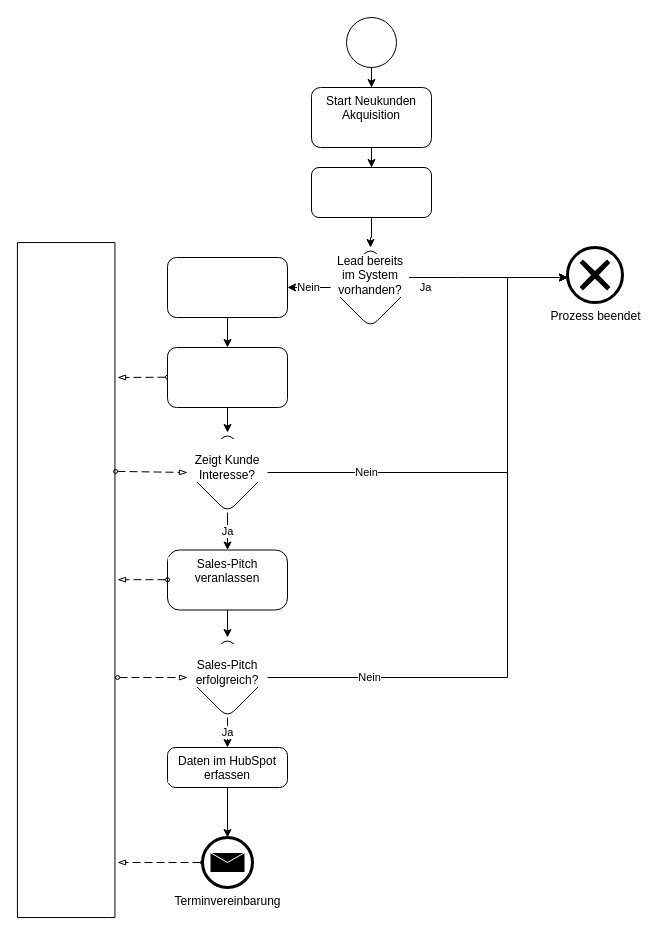
The diagram is 658 pixels wide and 936 high, and some of its shapes have lost their labels. Here are the shapes that lost their labels. From the top down, the box of each, then its label:
(310, 166, 432, 218): Möglicher Kunde gefunden.
(166, 256, 288, 318): Lead im System erfassen
(166, 346, 288, 408): Telefonische Kontaktaufnahme
(16, 242, 115, 918): Kunde
